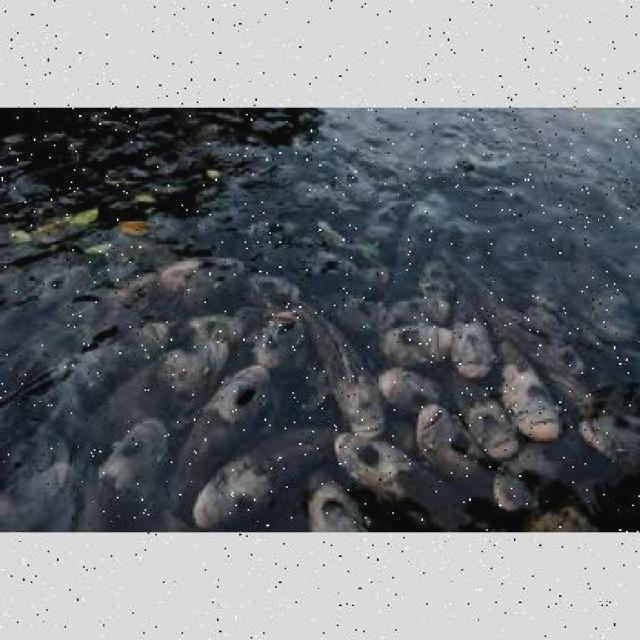gurame: (193, 428, 333, 526), (301, 296, 388, 436), (444, 371, 524, 454), (334, 428, 422, 498), (500, 346, 562, 436), (419, 400, 478, 471), (372, 363, 443, 422), (452, 293, 496, 382)
